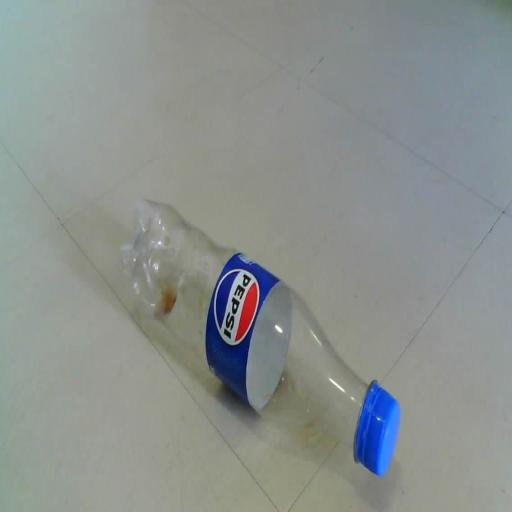bottle: (110, 184, 412, 487)
